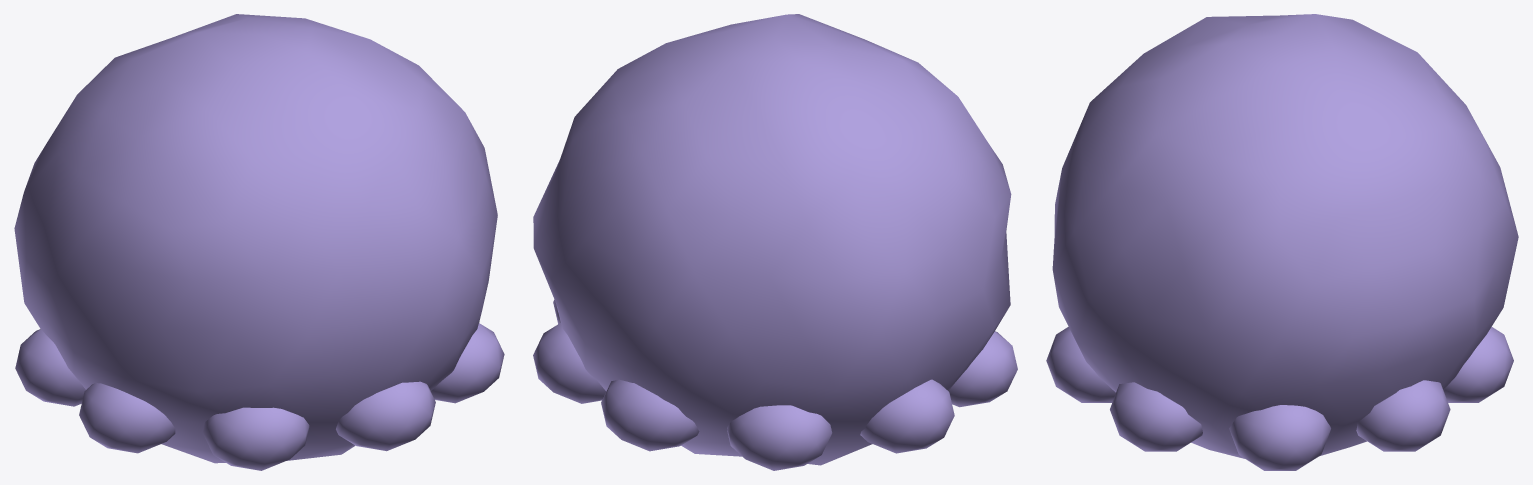
File: Blueberry_scoop.fbx
3 views of the same model, side by side, from view 1: azimuth 30°, elevation 25°; view 2: azimuth 150°, elevation 25°; view 3: azimuth 270°, elevation 25° (orthographic).
Parts seen in each view (by area): view 1: Toon_Blueberry_scoop Blueberry scoop.001, Toon_Blueberry_scoop Ruffled scoop edge.015, Toon_Blueberry_scoop Ruffled scoop edge.016, Toon_Blueberry_scoop Ruffled scoop edge.014, Toon_Blueberry_scoop Ruffled scoop edge.013, Toon_Blueberry_scoop Ruffled scoop edge.017; view 2: Toon_Blueberry_scoop Blueberry scoop.001, Toon_Blueberry_scoop Ruffled scoop edge.012, Toon_Blueberry_scoop Ruffled scoop edge.011, Toon_Blueberry_scoop Ruffled scoop edge.013, Toon_Blueberry_scoop Ruffled scoop edge.010, Toon_Blueberry_scoop Ruffled scoop edge.014; view 3: Toon_Blueberry_scoop Blueberry scoop.001, Toon_Blueberry_scoop Ruffled scoop edge.009, Toon_Blueberry_scoop Ruffled scoop edge.010, Toon_Blueberry_scoop Ruffled scoop edge.017, Toon_Blueberry_scoop Ruffled scoop edge.011, Toon_Blueberry_scoop Ruffled scoop edge.016.
Boxes of the visible parts, <box> form: Toon_Blueberry_scoop Blueberry scoop.001: <box>14,14,497,463</box>; Toon_Blueberry_scoop Ruffled scoop edge.015: <box>202,407,309,470</box>; Toon_Blueberry_scoop Ruffled scoop edge.016: <box>336,381,435,451</box>; Toon_Blueberry_scoop Ruffled scoop edge.014: <box>79,382,175,453</box>; Toon_Blueberry_scoop Ruffled scoop edge.013: <box>15,329,85,406</box>; Toon_Blueberry_scoop Ruffled scoop edge.017: <box>431,323,504,403</box>; Toon_Blueberry_scoop Blueberry scoop.001: <box>533,14,1011,465</box>; Toon_Blueberry_scoop Ruffled scoop edge.012: <box>727,405,832,470</box>; Toon_Blueberry_scoop Ruffled scoop edge.011: <box>601,379,699,451</box>; Toon_Blueberry_scoop Ruffled scoop edge.013: <box>860,379,954,453</box>; Toon_Blueberry_scoop Ruffled scoop edge.010: <box>533,323,606,403</box>; Toon_Blueberry_scoop Ruffled scoop edge.014: <box>948,331,1017,407</box>; Toon_Blueberry_scoop Blueberry scoop.001: <box>1052,14,1518,458</box>; Toon_Blueberry_scoop Ruffled scoop edge.009: <box>1229,405,1330,470</box>; Toon_Blueberry_scoop Ruffled scoop edge.010: <box>1356,380,1450,451</box>; Toon_Blueberry_scoop Ruffled scoop edge.017: <box>1110,382,1202,451</box>; Toon_Blueberry_scoop Ruffled scoop edge.011: <box>1443,327,1513,402</box>; Toon_Blueberry_scoop Ruffled scoop edge.016: <box>1046,327,1115,402</box>.
Size of the model in its own units: 10.56 by 9.6 by 10.18.
